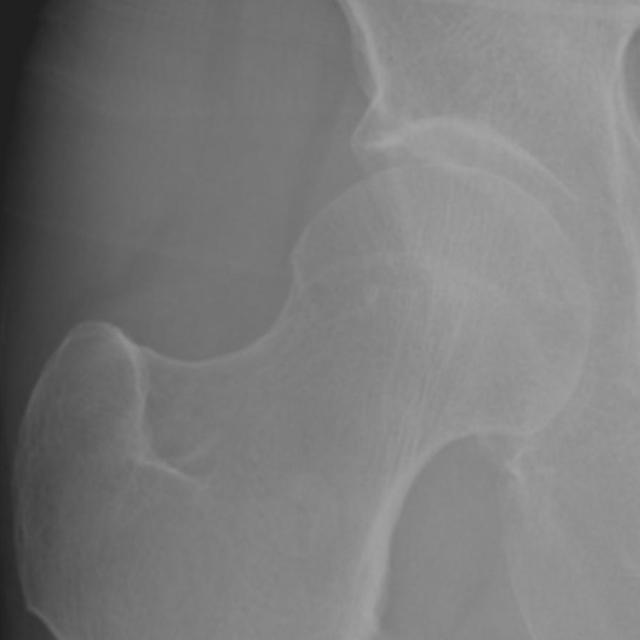Fitted_femural_head: (315, 162, 432, 315)
